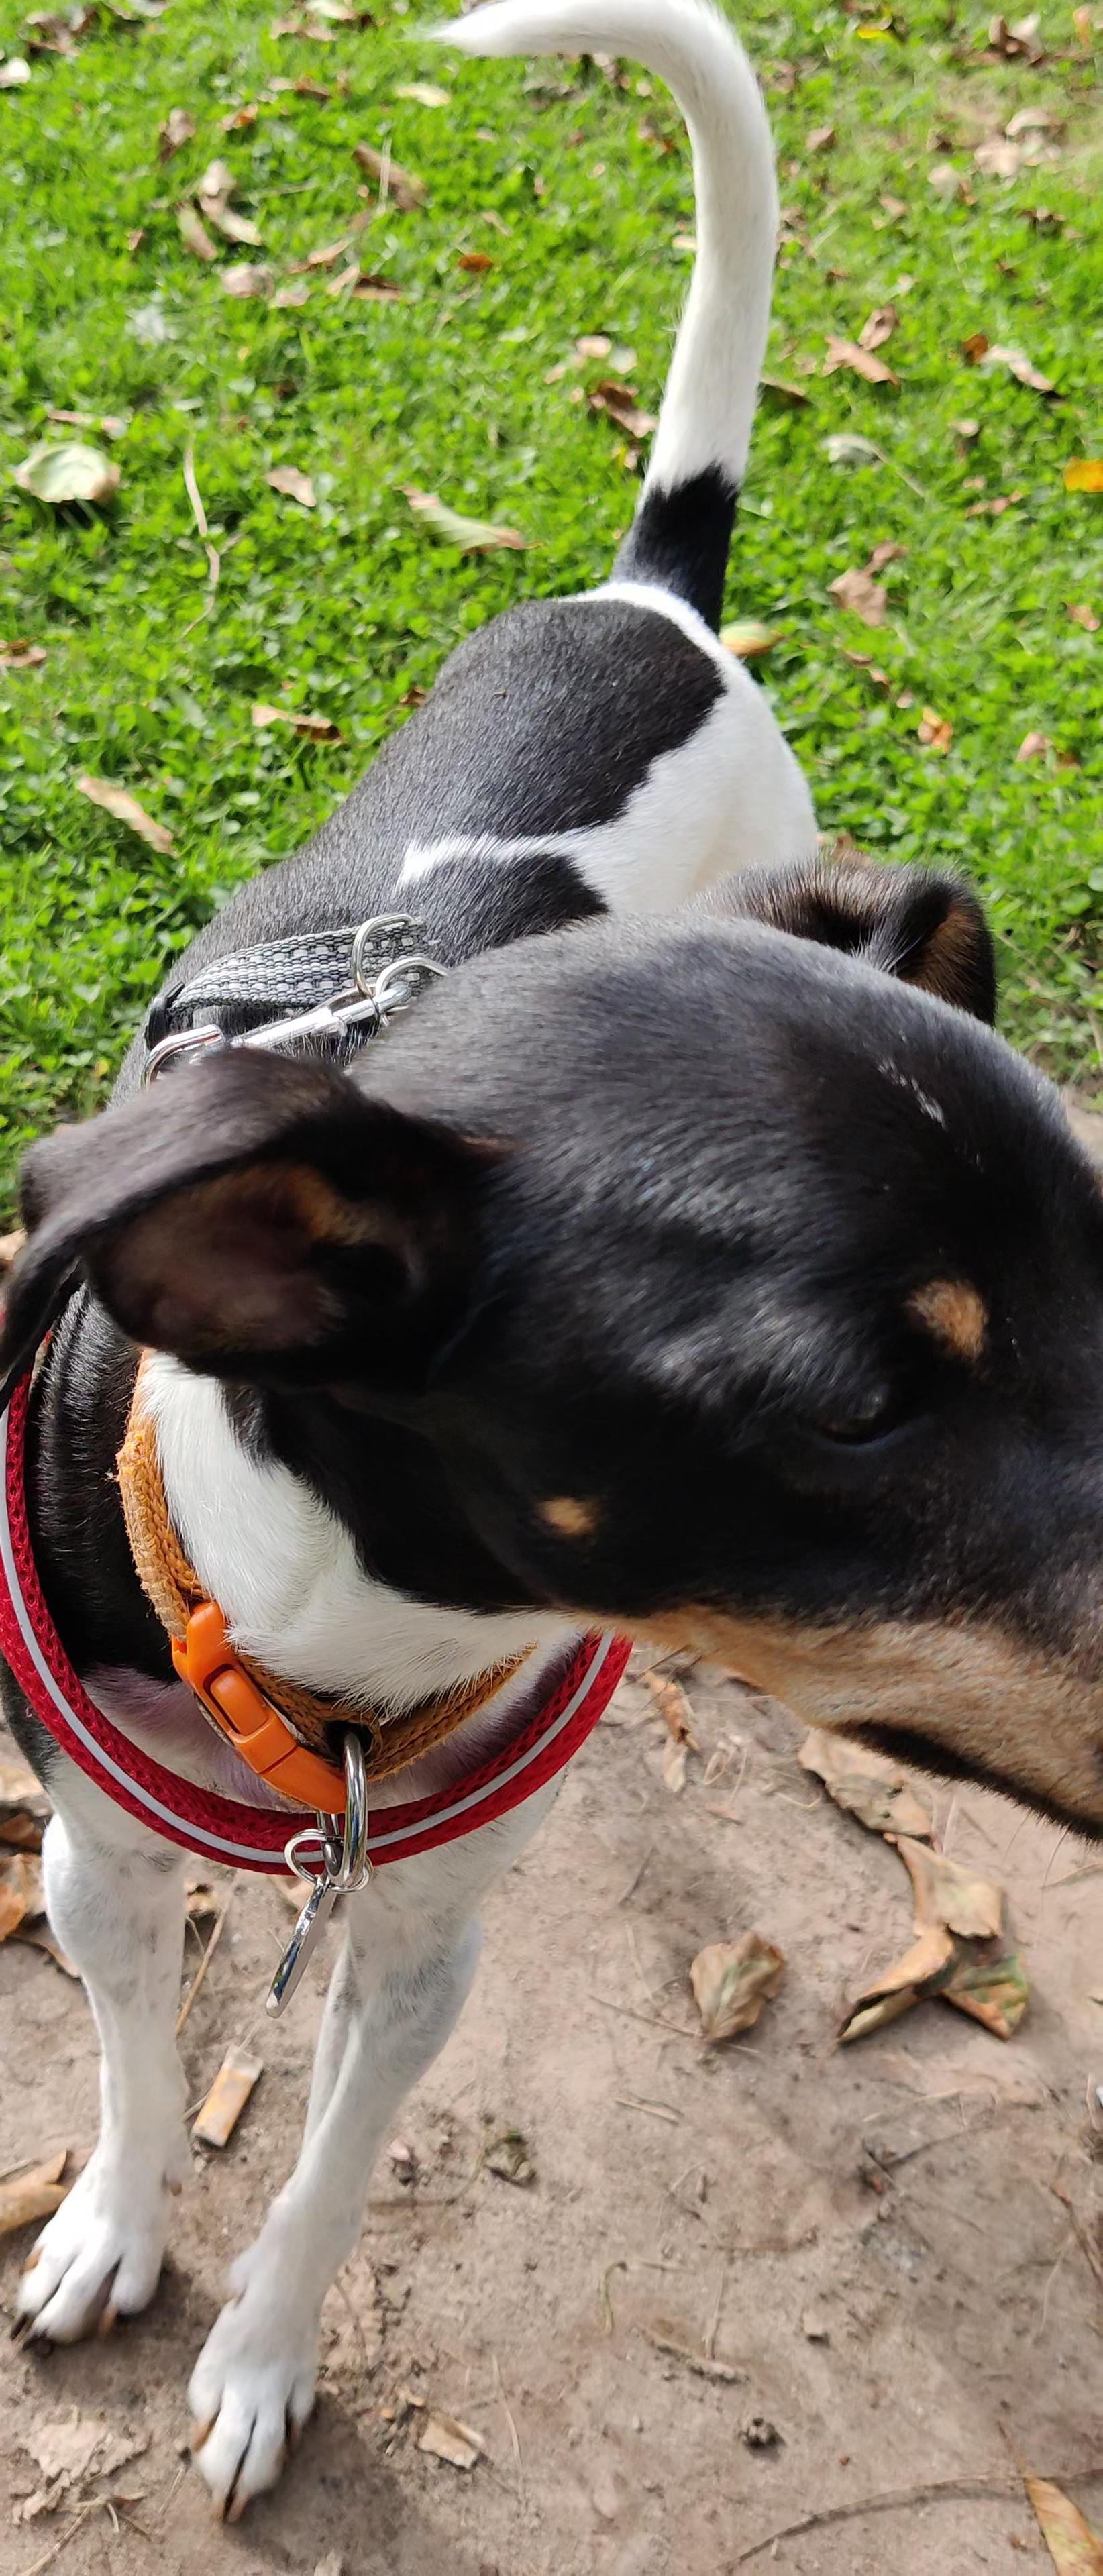Dog: (0, 0, 1103, 2530)
